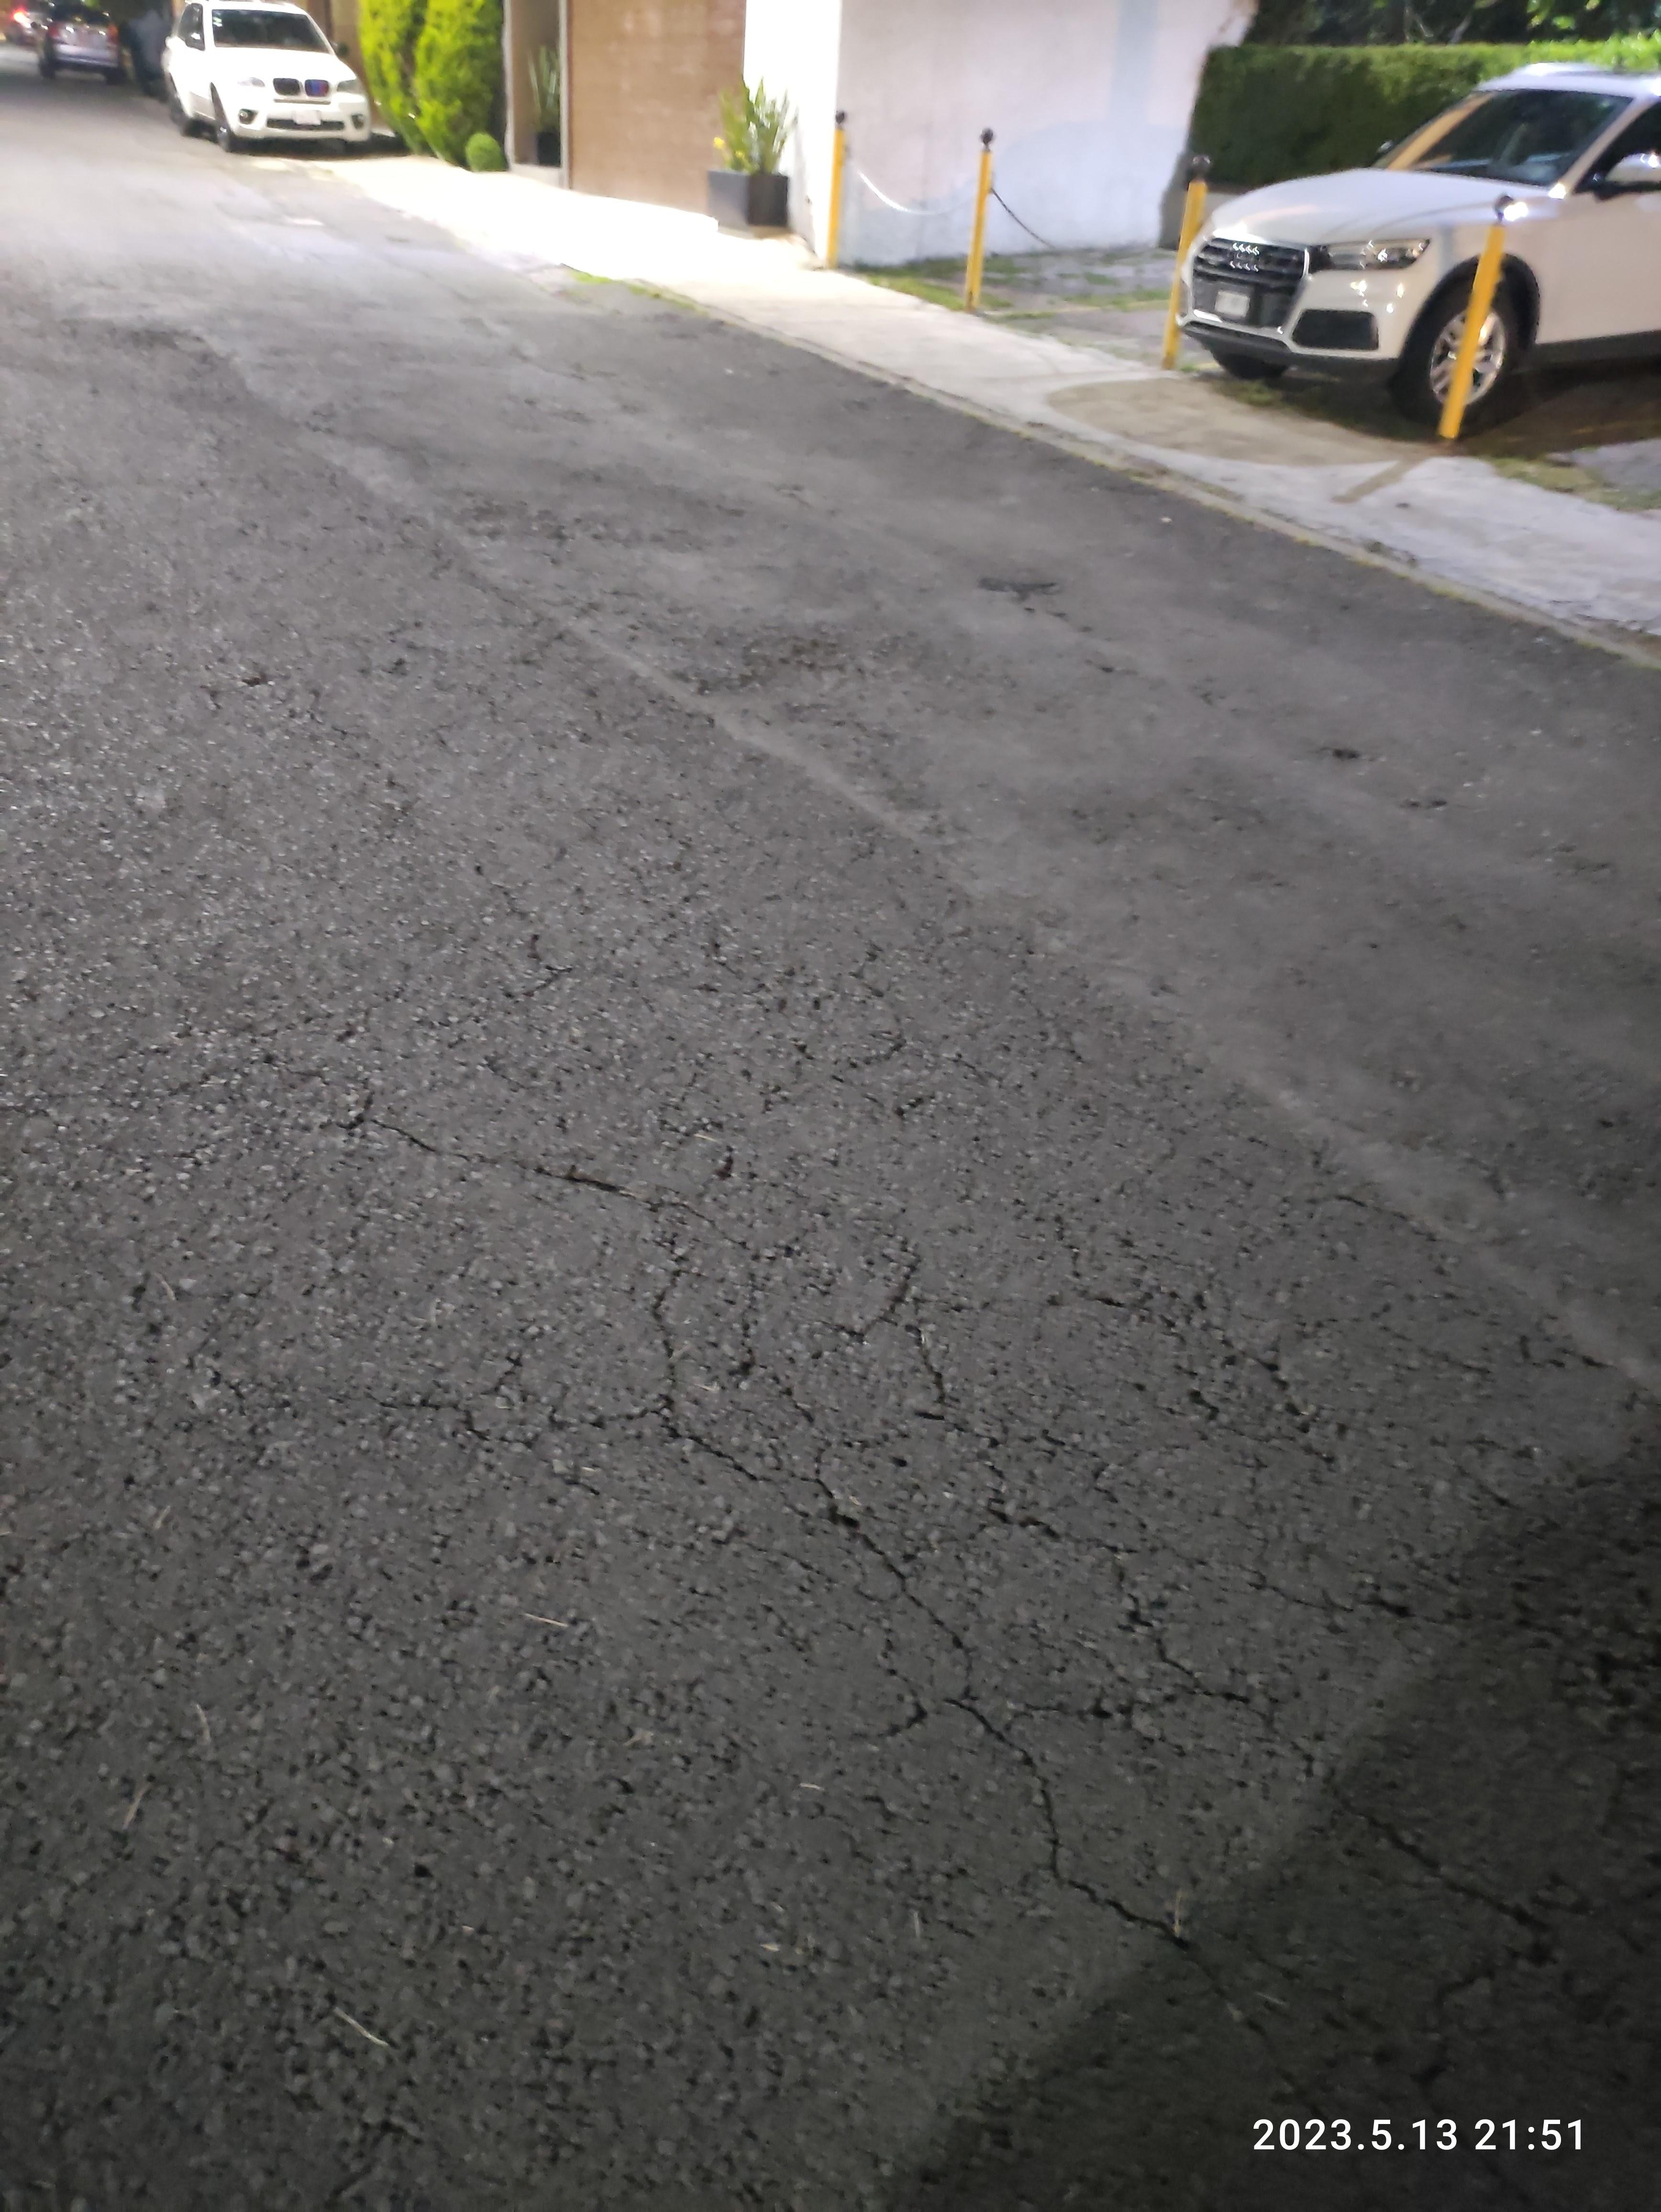alligator-crack: (623, 1144, 1661, 2191)
